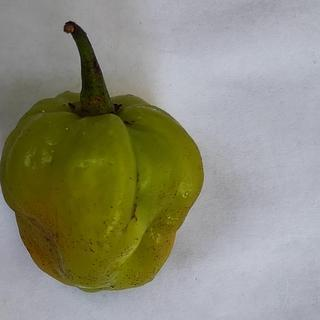Defect: (121, 193, 148, 232)
